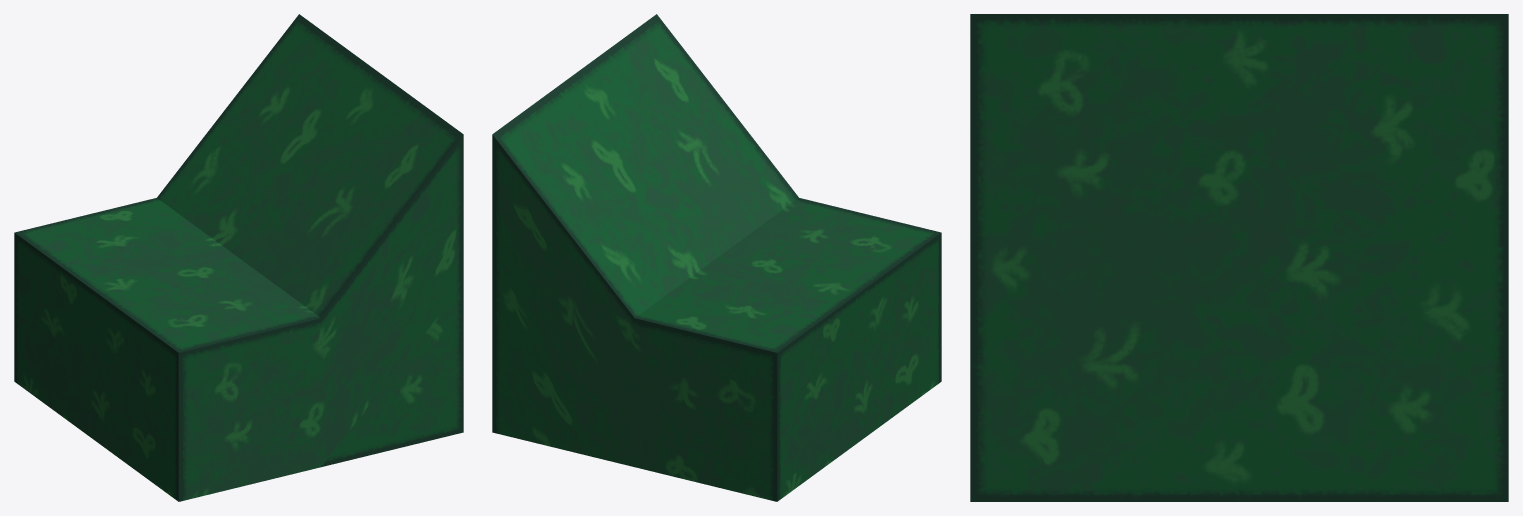
Rendered from 7_grass.obj.
3 renders of one model, left to right at view 1: azimuth 30°, elevation 25°; view 2: azimuth 150°, elevation 25°; view 3: azimuth 270°, elevation 25°, orthographic. The views are drawn at different scales.
Visible parts, largest first — view 1: 7_grass; view 2: 7_grass; view 3: 7_grass.
Boxes of the visible parts, x1,y1,x2,y2 form: 7_grass: (14,14,463,501); 7_grass: (492,14,941,501); 7_grass: (970,14,1508,501).
Size of the model in its own units: 1 by 1 by 1.
1 material, 1 textured.
